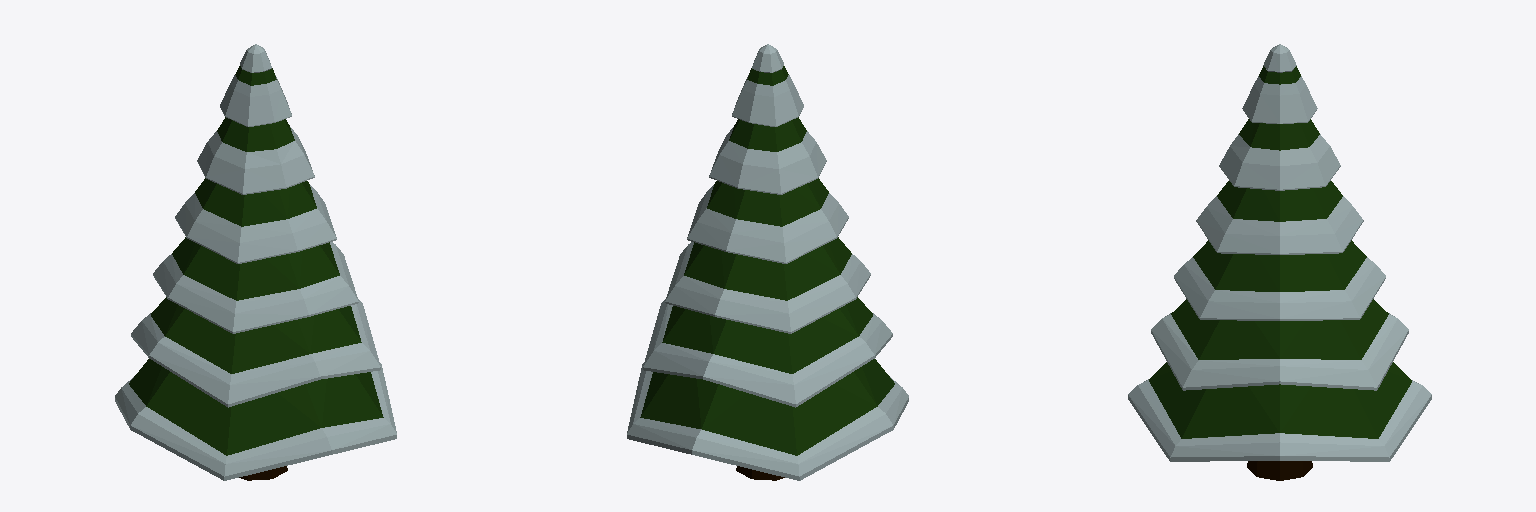
Rendered from tree.obj.
3 views of the same model, side by side, from view 1: azimuth 30°, elevation 25°; view 2: azimuth 150°, elevation 25°; view 3: azimuth 270°, elevation 25° (orthographic).
Visible parts, largest first — view 1: Snow_PineTree_Cylinder.003; view 2: Snow_PineTree_Cylinder.003; view 3: Snow_PineTree_Cylinder.003.
Boxes of the visible parts, <box> form: Snow_PineTree_Cylinder.003: <box>115,44,396,480</box>; Snow_PineTree_Cylinder.003: <box>627,44,908,480</box>; Snow_PineTree_Cylinder.003: <box>1128,44,1431,480</box>.
Bounding box in the file's own units: 4.75 × 7.63 × 4.97.